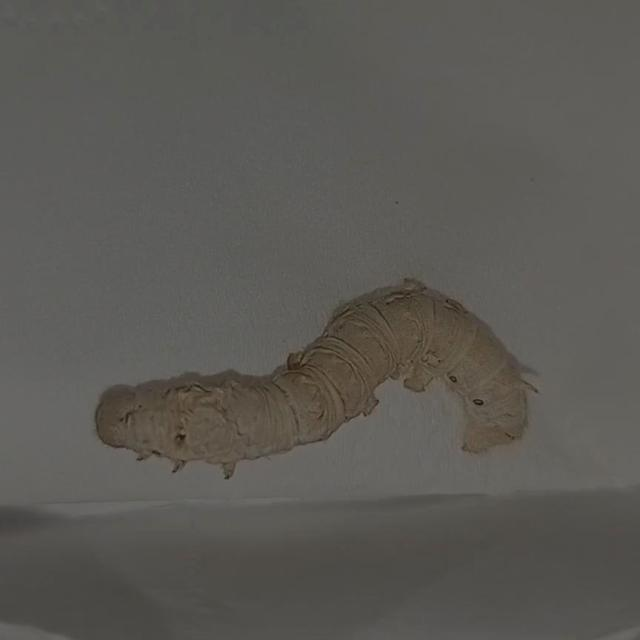Healthy: (83, 272, 543, 482)
